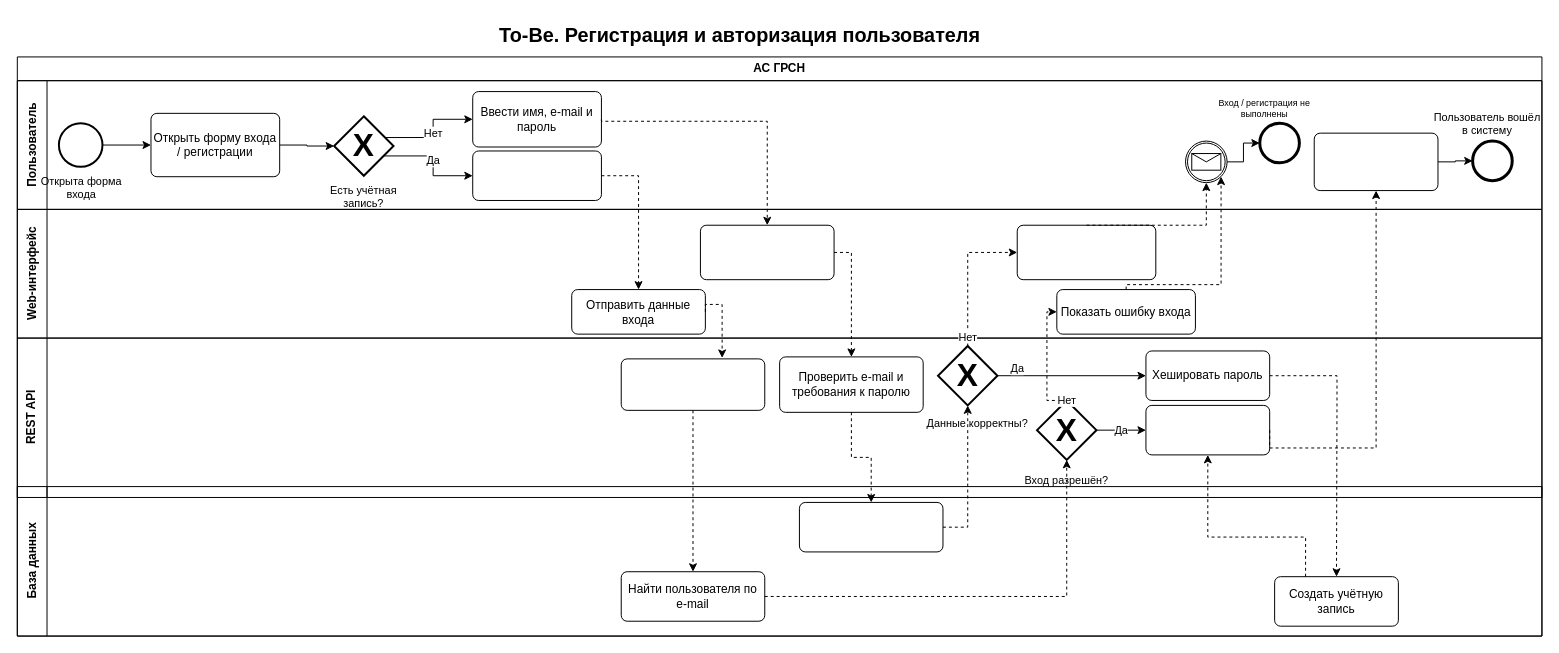
The diagram is 1559 pixels wide and 653 high, and some of its shapes have lost their labels. Here are the shapes that lost their labels. From the top down, the centre of each, then its label:
(x=536, y=175): Ввести e-mail и пароль
(x=1206, y=161): Сообщение об ошибке
(x=1375, y=161): Перейти в личный кабинет
(x=766, y=252): Отправить данные регистрации
(x=1086, y=252): Показать ошибку регистрации
(x=692, y=384): Проверить статус и пароль
(x=1207, y=429): Выдать JWT-токен
(x=870, y=526): Проверить уникальность e-mail
